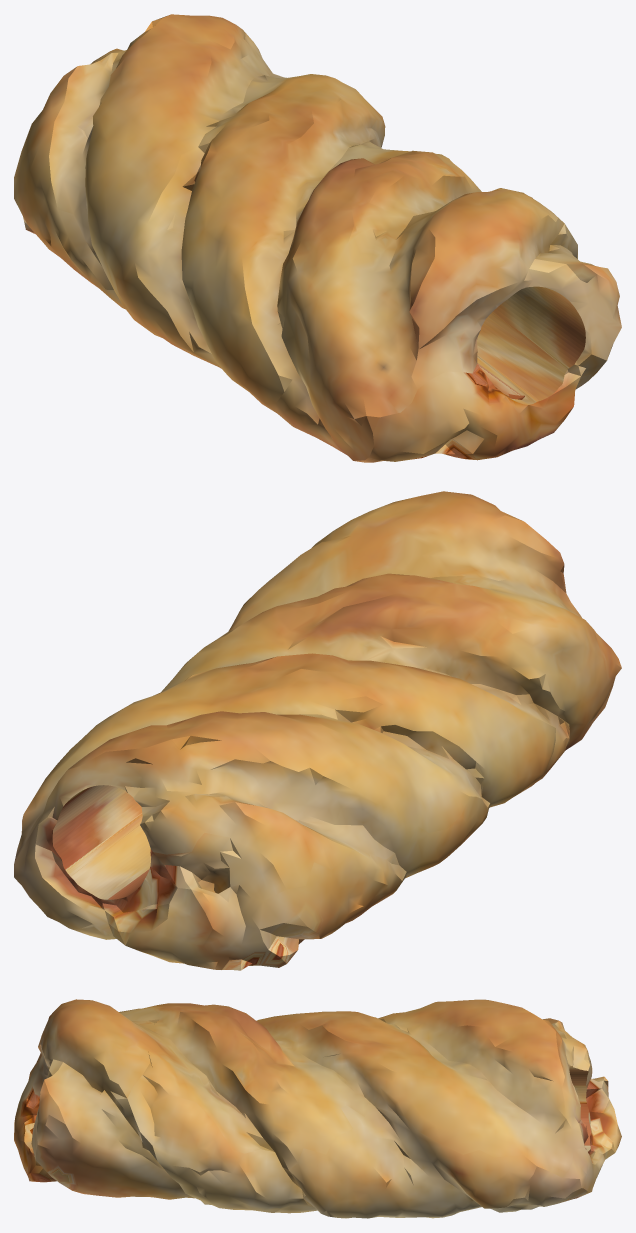
The model's file is pastry.obj.
The picture shows the model from 3 angles, top to bottom: view 1: azimuth 30°, elevation 25°; view 2: azimuth 150°, elevation 25°; view 3: azimuth 270°, elevation 25°; orthographic projection. The views are drawn at different scales.
Parts seen in each view (by area): view 1: pastry; view 2: pastry; view 3: pastry.
Part boxes in pixels (left/top/right/bottom): pastry: left=14, top=14, right=621, bottom=462; pastry: left=14, top=491, right=621, bottom=970; pastry: left=14, top=999, right=621, bottom=1218.
Size of the model in its own units: 0.0869 by 0.0556 by 0.1772.
Materials: 1 (1 with a texture image).
